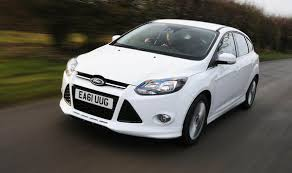Ford: (58, 19, 260, 144)
